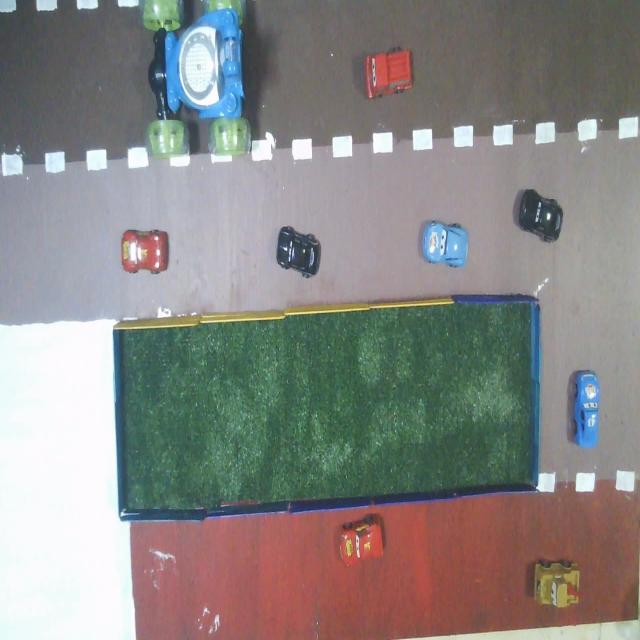small cars: (365, 48, 412, 98), (519, 190, 563, 242), (277, 226, 320, 277), (340, 515, 383, 565), (534, 561, 579, 607), (423, 222, 468, 267), (121, 230, 168, 273), (574, 371, 599, 447)
